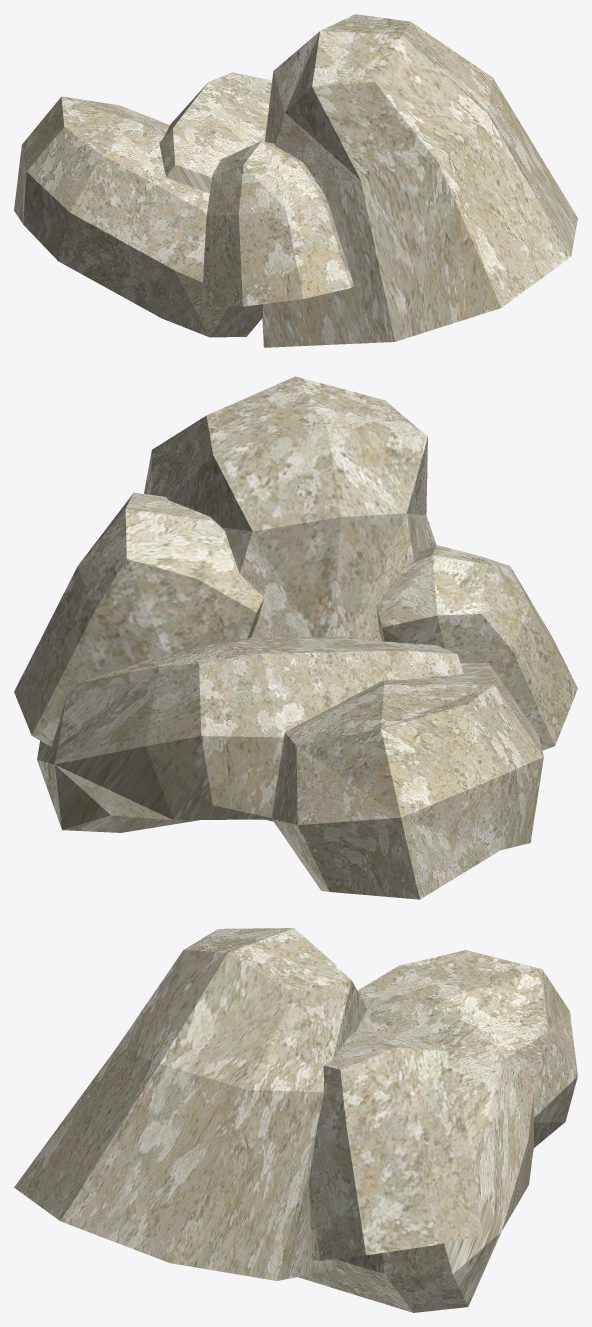
Rendered from rock_formation_a3_l0.fbx.
3 views of the same model, one above another, from view 1: azimuth 30°, elevation 25°; view 2: azimuth 150°, elevation 25°; view 3: azimuth 270°, elevation 25° (orthographic). The views are drawn at different scales.
Parts seen in each view (by area): view 1: mesh_node; view 2: mesh_node; view 3: mesh_node.
Part boxes in pixels (box(x1,y1,x2,y2)): mesh_node: box(14, 14, 577, 347); mesh_node: box(14, 376, 577, 899); mesh_node: box(14, 928, 577, 1312).
Bounding box in the file's own units: 9.51 × 6.48 × 9.85.
